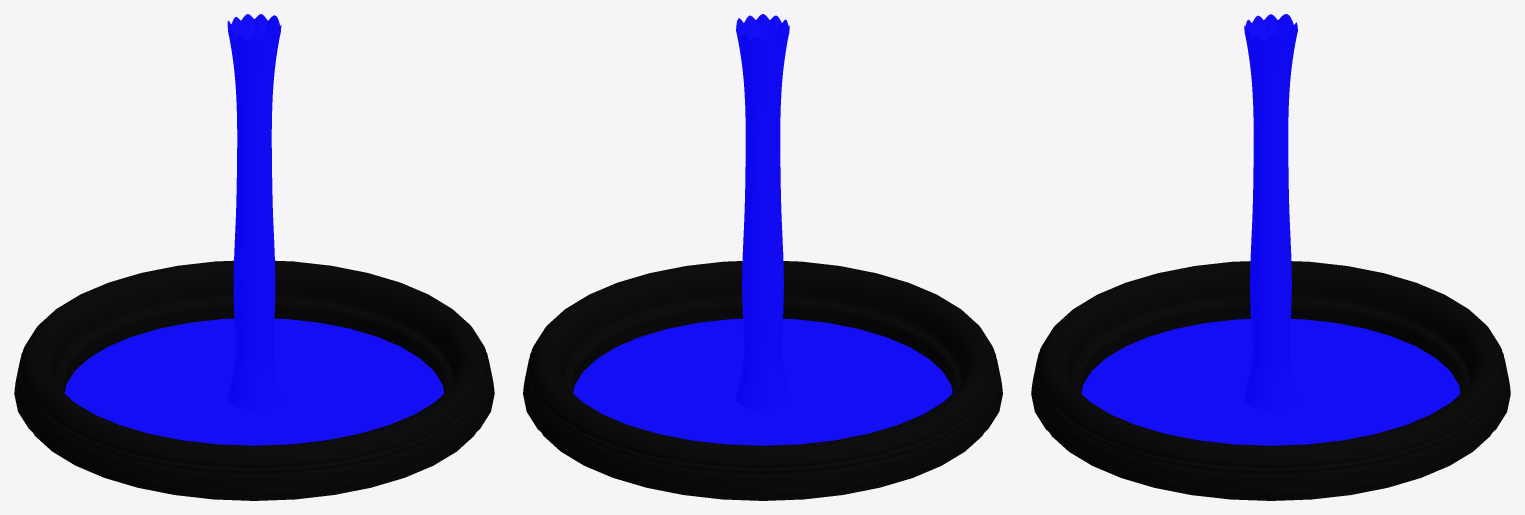
File: Brunnen_skaliert.fbx
The picture shows the model from 3 angles, left to right: view 1: azimuth 30°, elevation 25°; view 2: azimuth 150°, elevation 25°; view 3: azimuth 270°, elevation 25°; orthographic projection.
Parts seen in each view (by area): view 1: Brunnen_Export_skaliert; view 2: Brunnen_Export_skaliert; view 3: Brunnen_Export_skaliert.
Boxes of the visible parts, x1,y1,x2,y2 form: Brunnen_Export_skaliert: (14, 14, 494, 500); Brunnen_Export_skaliert: (523, 14, 1002, 500); Brunnen_Export_skaliert: (1031, 14, 1510, 500).
Bounding box in the file's own units: 1130 × 1003 × 1130.
